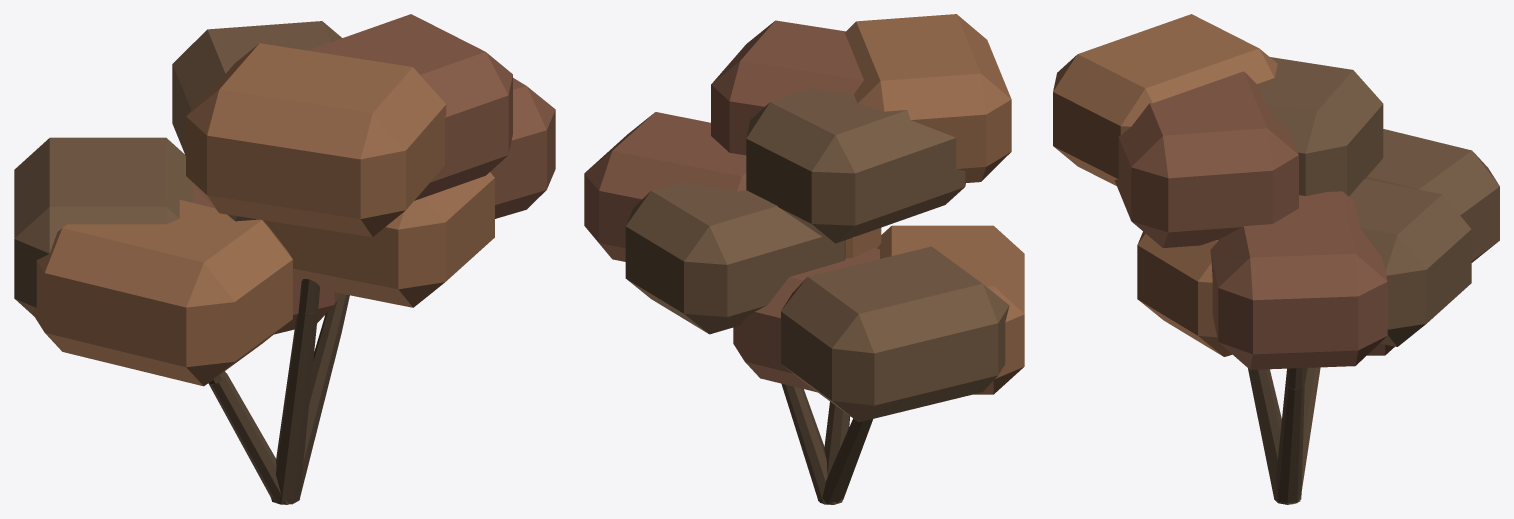
The model's file is blueberry_young_autumn.glb.
3 renders of one model, left to right at view 1: azimuth 30°, elevation 25°; view 2: azimuth 150°, elevation 25°; view 3: azimuth 270°, elevation 25°, orthographic. The views are drawn at different scales.
Parts seen in each view (by area): view 1: blueberry_young_autumn; view 2: blueberry_young_autumn; view 3: blueberry_young_autumn.
Boxes of the visible parts, x1,y1,x2,y2 form: blueberry_young_autumn: (14,14,555,504); blueberry_young_autumn: (584,14,1024,504); blueberry_young_autumn: (1053,14,1499,504).
Bounding box in the file's own units: 0.839 × 0.7926 × 0.7423.
